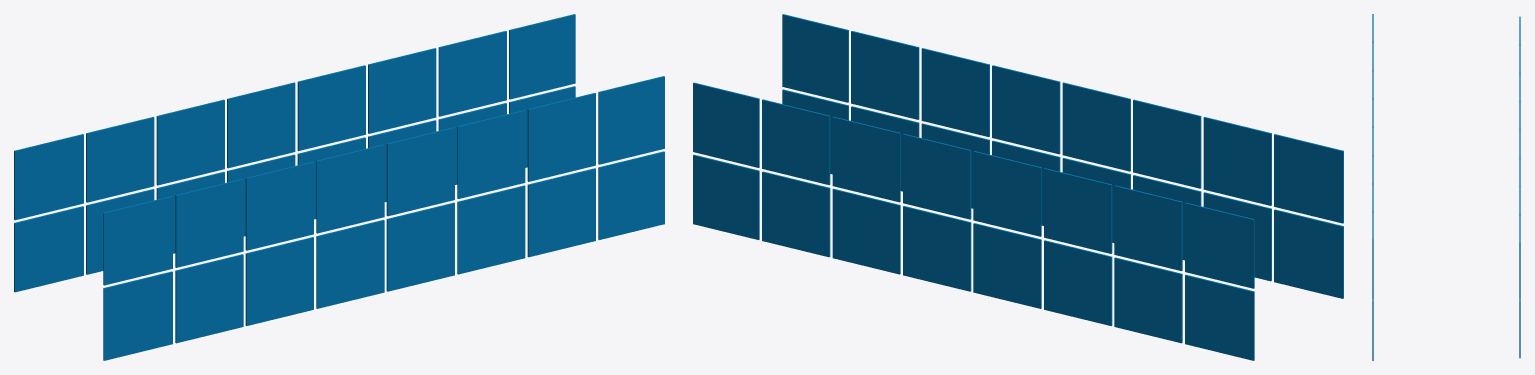
Rendered from Building Model - Excavation and Trench - updated_1kn71nZ$z5OvtVVlfMnLPO-Piso Ponte_IfcPlate.dae.
3 views of the same model, side by side, from view 1: azimuth 30°, elevation 25°; view 2: azimuth 150°, elevation 25°; view 3: azimuth 270°, elevation 25° (orthographic). The views are drawn at different scales.
Visible parts, largest first — view 1: 2IhxVQnWb4CfEretmioJaC, 2IhxVQnWb4CfEretmioJXF, 2IhxVQnWb4CfEretmioJam, 2IhxVQnWb4CfEretmioJXB, 2IhxVQnWb4CfEretmioJXE, 2IhxVQnWb4CfEretmioJa8, 2IhxVQnWb4CfEretmioJXA, 2IhxVQnWb4CfEretmioJX8, 2IhxVQnWb4CfEretmioJX9, 2IhxVQnWb4CfEretmioJas, 2IhxVQnWb4CfEretmioJaA, 2IhxVQnWb4CfEretmioJXr (+20 smaller); view 2: 2IhxVQnWb4CfEretmioJaC, 2IhxVQnWb4CfEretmioJXF, 2IhxVQnWb4CfEretmioJXB, 2IhxVQnWb4CfEretmioJXE, 2IhxVQnWb4CfEretmioJX8, 2IhxVQnWb4CfEretmioJXr, 2IhxVQnWb4CfEretmioJXA, 2IhxVQnWb4CfEretmioJX9, 2IhxVQnWb4CfEretmioJXq, 3fEVMmC556q8Ls9bVpuqU7, 2IhxVQnWb4CfEretmioJWz, 2IhxVQnWb4CfEretmioJhz (+20 smaller); view 3: 2IhxVQnWb4CfEretmioJXq, 2IhxVQnWb4CfEretmioJWw.
Boxes of the visible parts, x1,y1,x2,y2 form: 2IhxVQnWb4CfEretmioJaC: [103, 271, 172, 360]; 2IhxVQnWb4CfEretmioJXF: [103, 196, 172, 285]; 2IhxVQnWb4CfEretmioJam: [527, 168, 595, 257]; 2IhxVQnWb4CfEretmioJXB: [386, 127, 454, 216]; 2IhxVQnWb4CfEretmioJXE: [175, 179, 243, 267]; 2IhxVQnWb4CfEretmioJa8: [316, 220, 384, 308]; 2IhxVQnWb4CfEretmioJXA: [457, 110, 525, 198]; 2IhxVQnWb4CfEretmioJX8: [316, 144, 384, 233]; 2IhxVQnWb4CfEretmioJX9: [245, 161, 313, 250]; 2IhxVQnWb4CfEretmioJas: [386, 202, 454, 291]; 2IhxVQnWb4CfEretmioJaA: [175, 254, 243, 343]; 2IhxVQnWb4CfEretmioJXr: [527, 93, 595, 181]; 2IhxVQnWb4CfEretmioJaC: [1274, 209, 1343, 298]; 2IhxVQnWb4CfEretmioJXF: [1274, 134, 1343, 223]; 2IhxVQnWb4CfEretmioJXB: [992, 65, 1060, 154]; 2IhxVQnWb4CfEretmioJXE: [1203, 117, 1271, 205]; 2IhxVQnWb4CfEretmioJX8: [1062, 82, 1130, 171]; 2IhxVQnWb4CfEretmioJXr: [851, 31, 919, 119]; 2IhxVQnWb4CfEretmioJXA: [921, 48, 989, 136]; 2IhxVQnWb4CfEretmioJX9: [1133, 99, 1201, 188]; 2IhxVQnWb4CfEretmioJXq: [782, 14, 848, 102]; 3fEVMmC556q8Ls9bVpuqU7: [1185, 274, 1254, 360]; 2IhxVQnWb4CfEretmioJWz: [1185, 202, 1254, 288]; 2IhxVQnWb4CfEretmioJhz: [762, 171, 830, 257]; 2IhxVQnWb4CfEretmioJXq: [1372, 213, 1373, 298]; 2IhxVQnWb4CfEretmioJWw: [1519, 215, 1520, 298].
Size of the model in its own units: 8.99 by 2.5 by 2.26.
